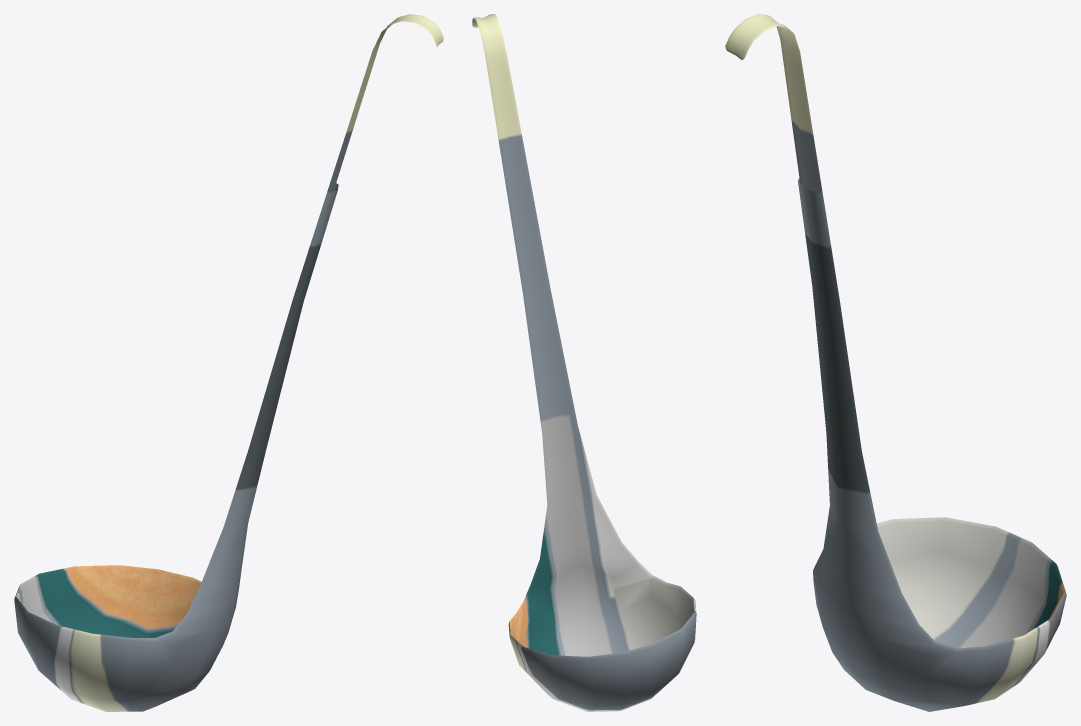
The model's file is KitchenLadle.fbx.
3 views of the same model, side by side, from view 1: azimuth 30°, elevation 25°; view 2: azimuth 150°, elevation 25°; view 3: azimuth 270°, elevation 25° (orthographic). The views are drawn at different scales.
Parts seen in each view (by area): view 1: SM_Ladle_Utensils_0.001; view 2: SM_Ladle_Utensils_0.001; view 3: SM_Ladle_Utensils_0.001.
Part boxes in pixels (left/top/right/bottom): SM_Ladle_Utensils_0.001: left=14, top=14, right=443, bottom=711; SM_Ladle_Utensils_0.001: left=472, top=14, right=696, bottom=711; SM_Ladle_Utensils_0.001: left=725, top=14, right=1066, bottom=711.
Size of the model in its own units: 1575 by 3139 by 1218.
